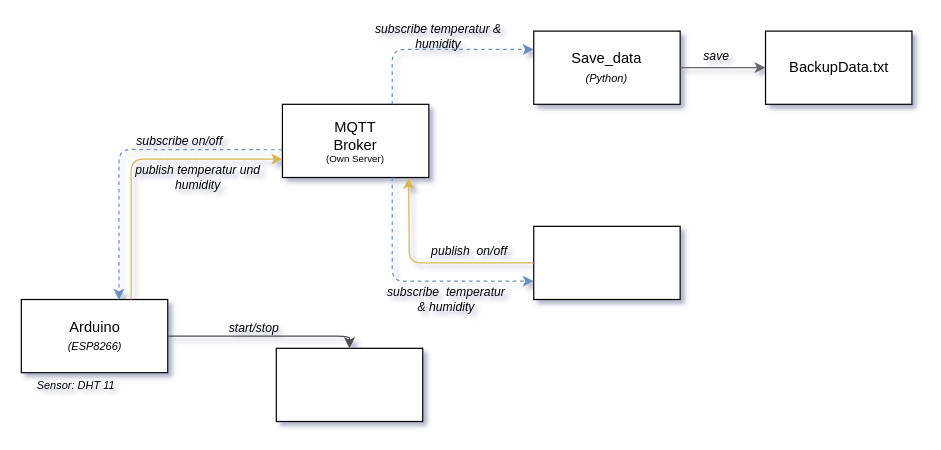
Image size: 941x450. Some labels were removed from this diagram. Each missing label, with the box of its shape:
Controller (Python): (533, 225, 680, 300)
Ventilator (230V): (275, 347, 423, 422)
